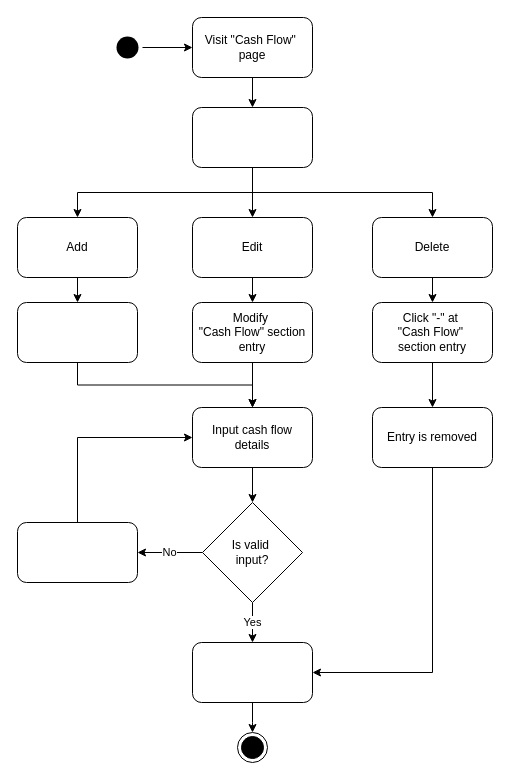
Image size: 510x780. Some labels were removed from this diagram. The shapes that lost their labels are listed below. From the top down, each one's centre as x and y in pixels, then its label:
point (252, 137): Click "Edit" icon
point (77, 332): Click "+" at "Cash Flow" section
point (77, 552): Rectify input
point (252, 672): Click "Tick" icon
